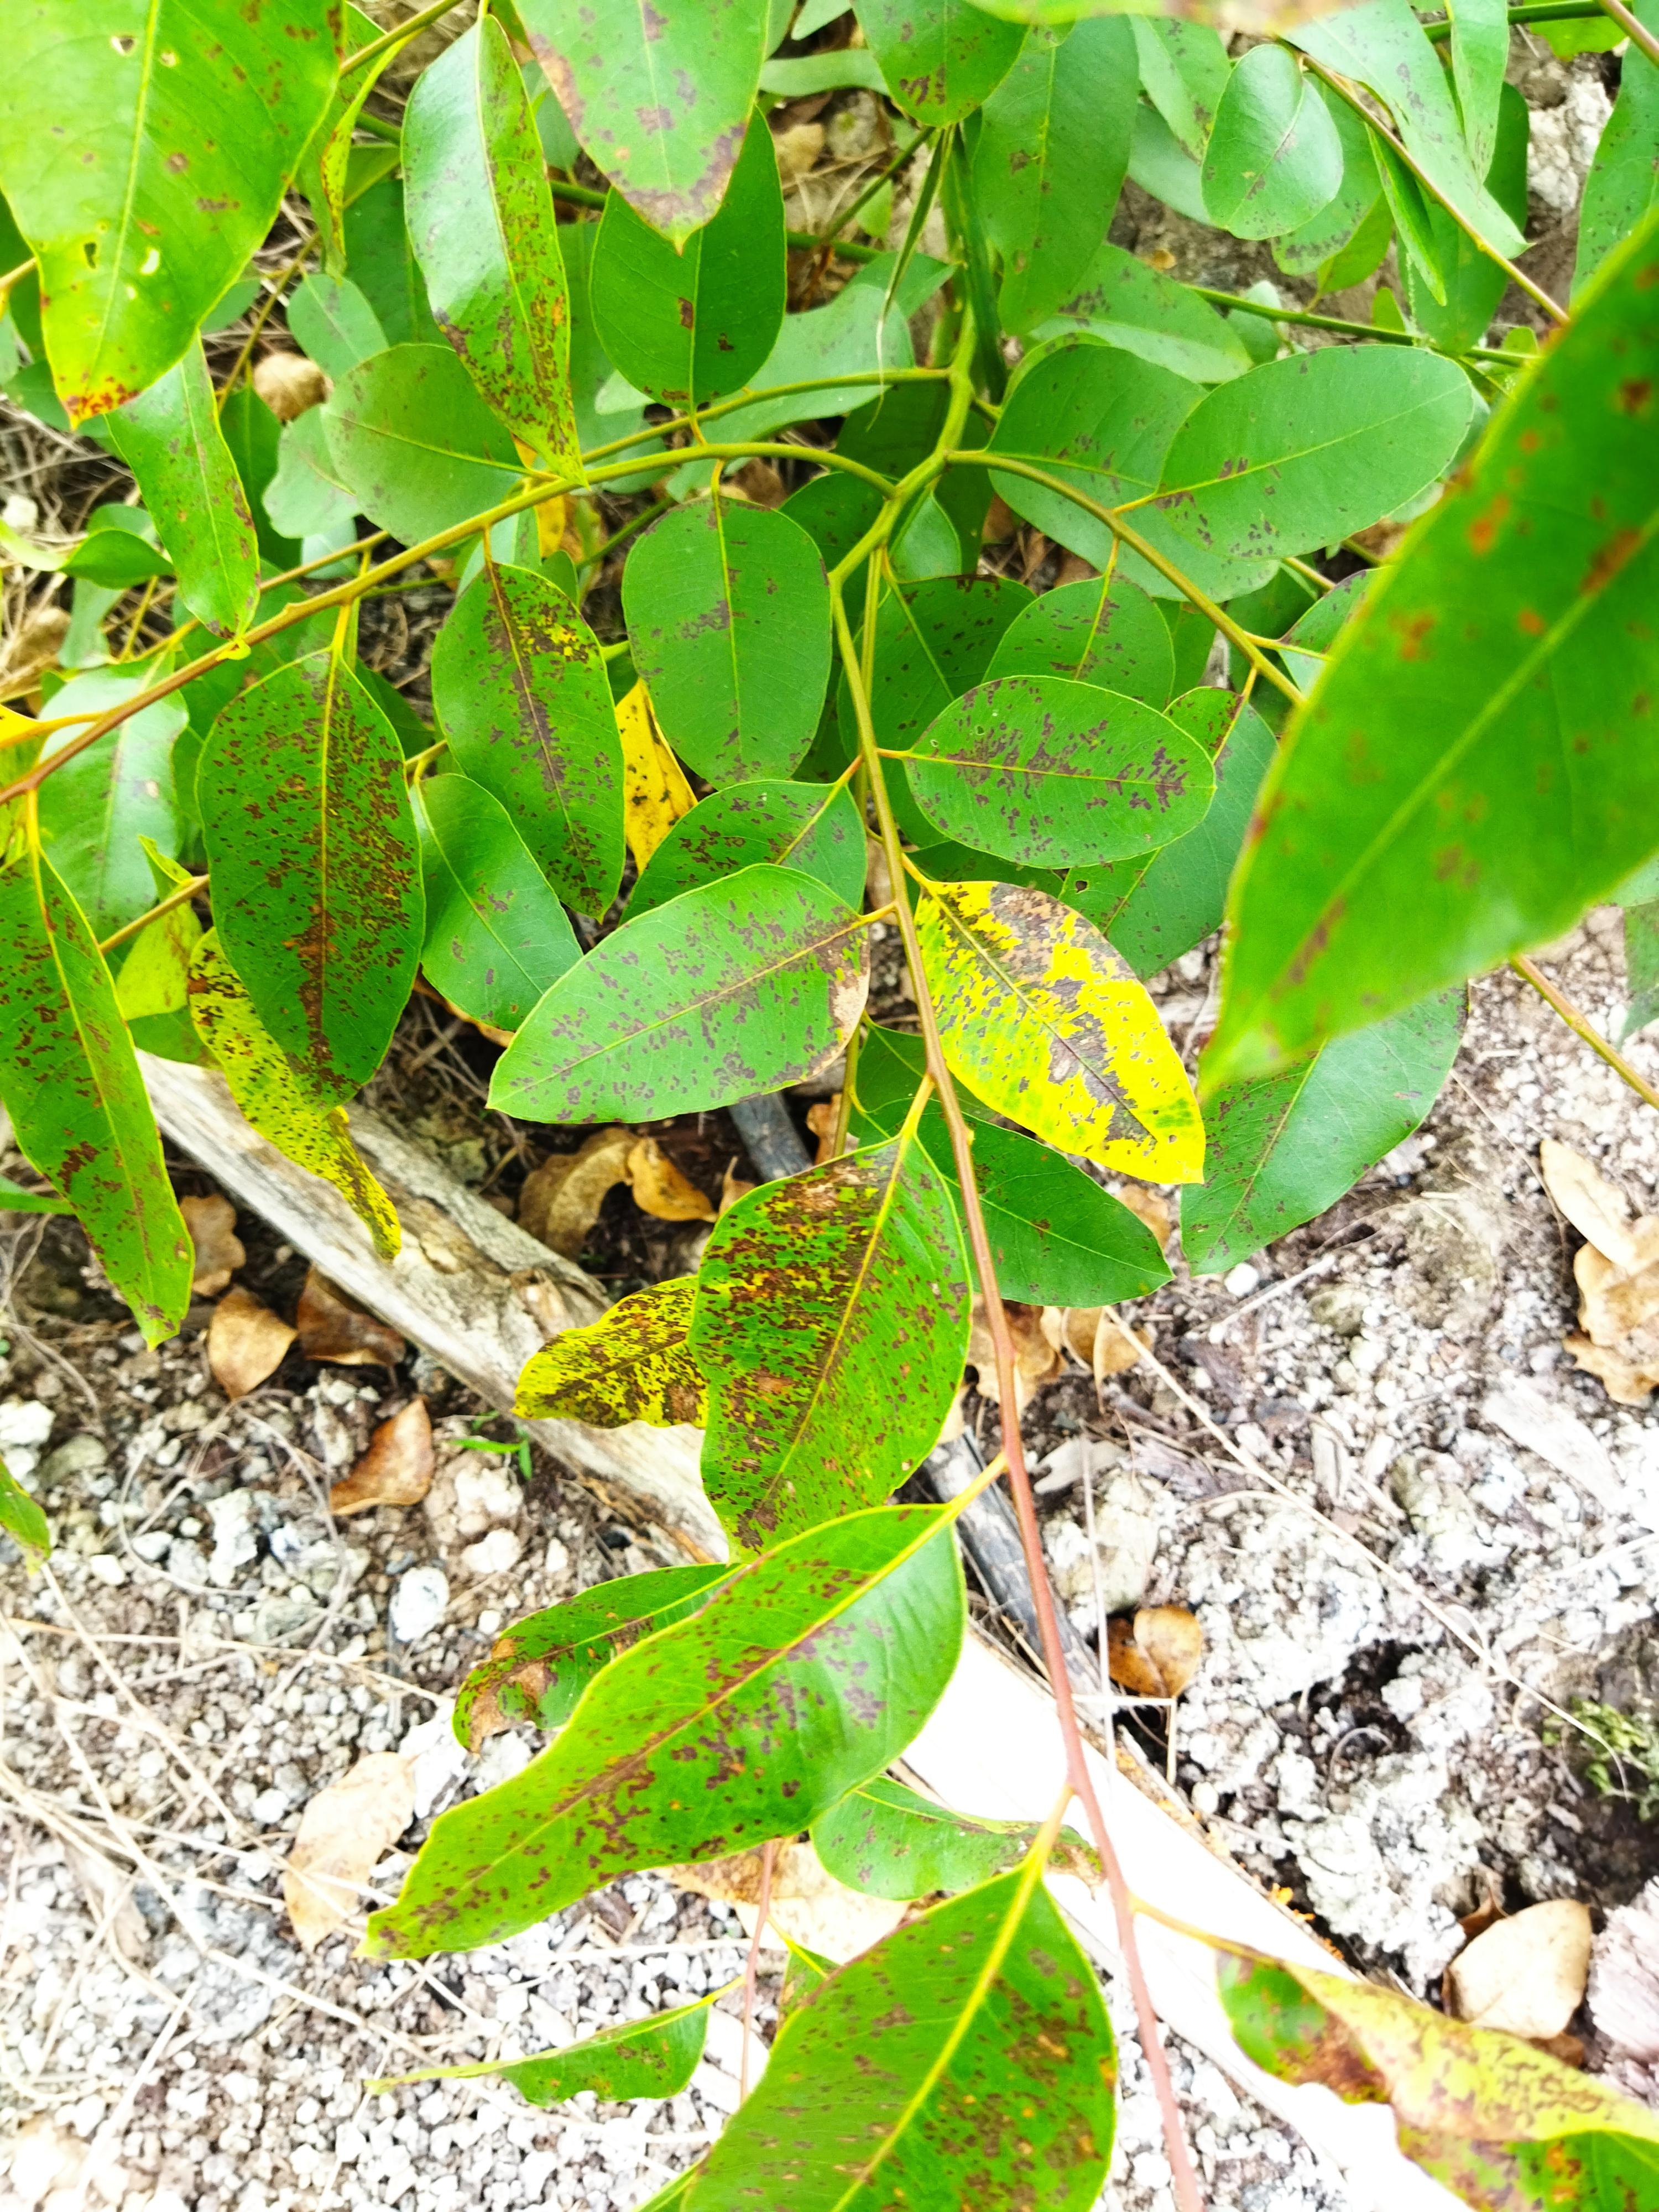Xanthomonas: (908, 864, 1230, 1252), (211, 648, 448, 1111), (870, 1865, 1138, 2212), (720, 1162, 934, 1583), (450, 549, 643, 928), (549, 1693, 816, 1827)
